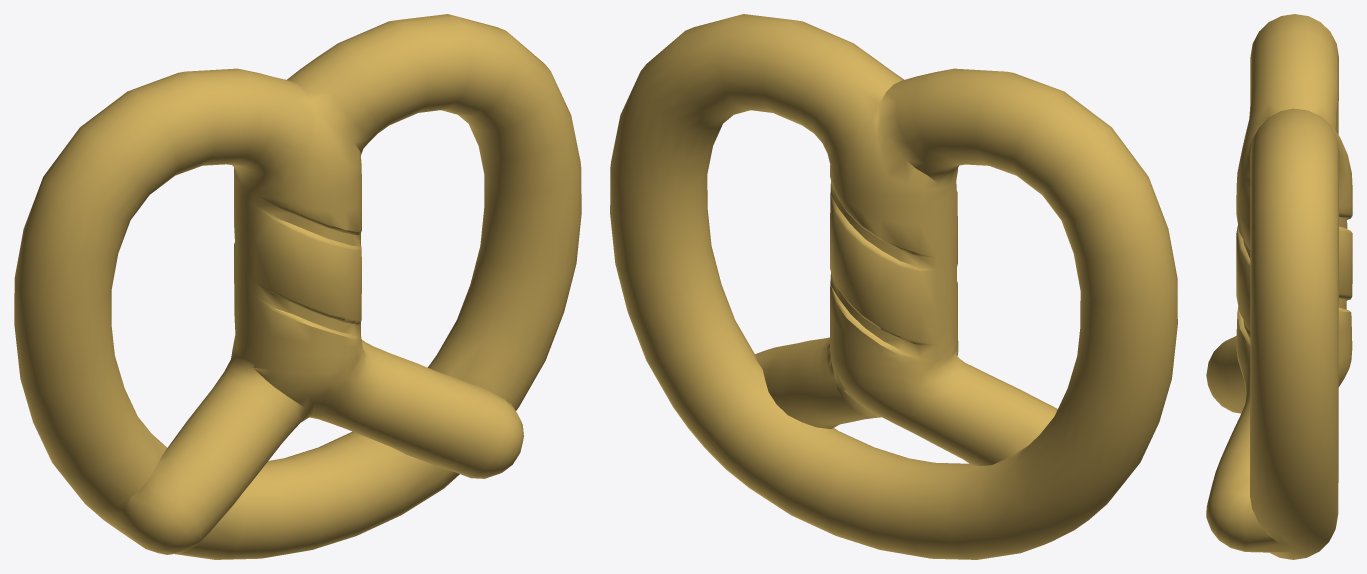
The picture shows the model from 3 angles, left to right: view 1: azimuth 30°, elevation 25°; view 2: azimuth 150°, elevation 25°; view 3: azimuth 270°, elevation 25°; orthographic projection. The views are drawn at different scales.
Parts seen in each view (by area): view 1: SOLID-WHITE_012-material.096; view 2: SOLID-WHITE_012-material.096; view 3: SOLID-WHITE_012-material.096.
Boxes of the visible parts, x1,y1,x2,y2 form: SOLID-WHITE_012-material.096: (14, 14, 581, 559); SOLID-WHITE_012-material.096: (610, 14, 1177, 559); SOLID-WHITE_012-material.096: (1206, 14, 1352, 559).
Bounding box in the file's own units: 203 × 174 × 51.41.
